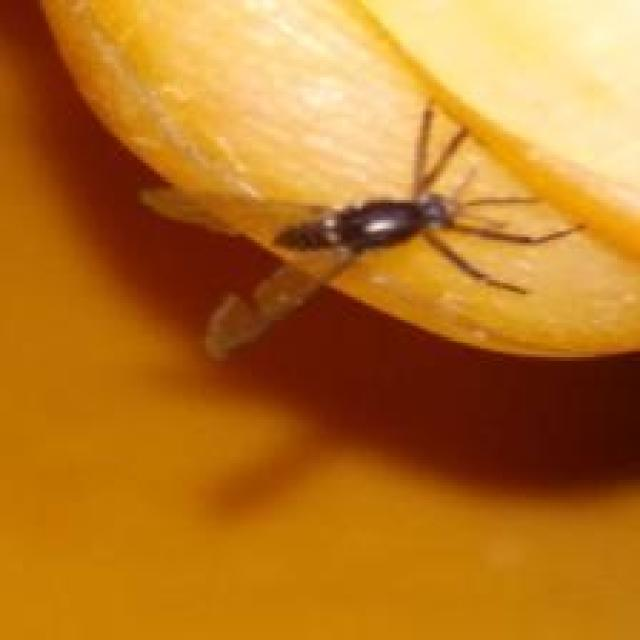Aedes albopictus: (200, 97, 586, 363)
